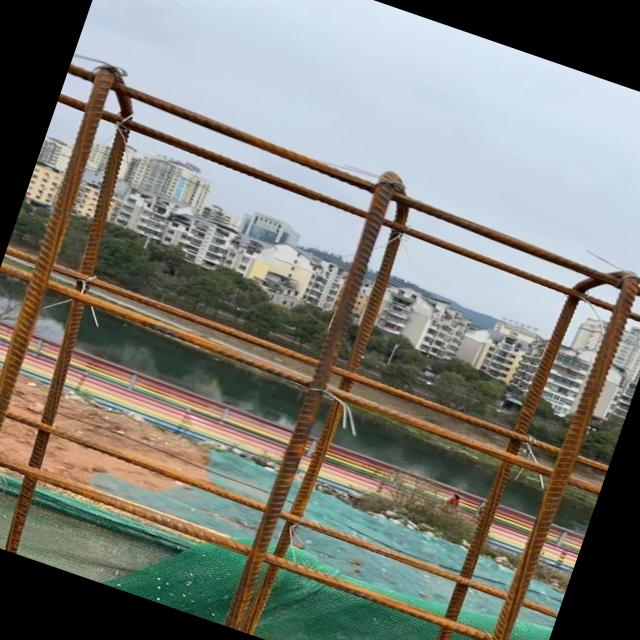ribbed bar: (0, 261, 606, 496), (58, 61, 640, 304), (1, 245, 612, 472), (50, 93, 640, 328), (0, 390, 561, 617), (0, 434, 546, 640), (222, 172, 394, 630), (0, 108, 166, 553), (240, 206, 410, 638), (462, 275, 637, 640), (0, 59, 130, 536), (413, 286, 579, 640)
